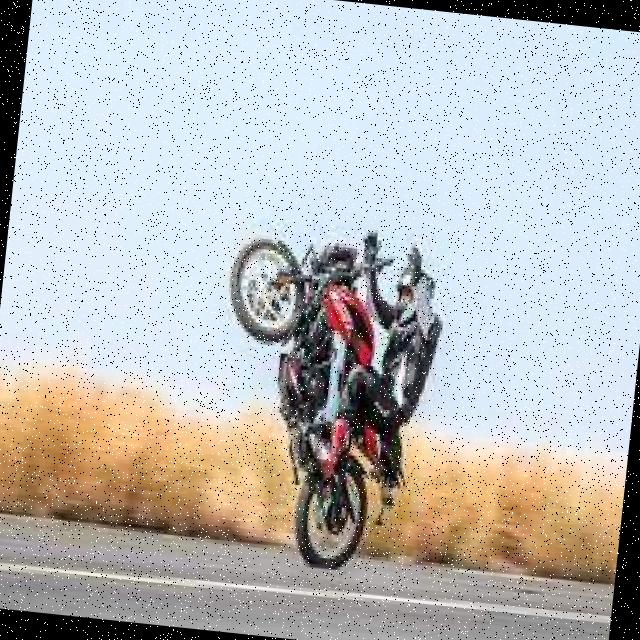Wheeling: (199, 208, 460, 579)
